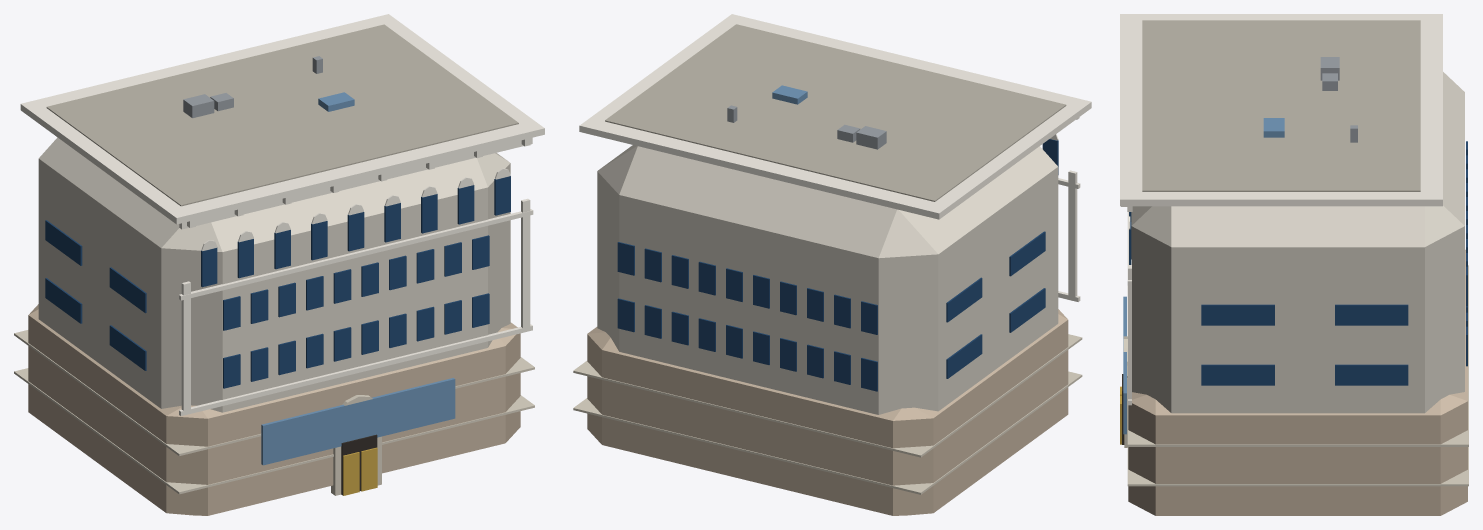
Rendered from office_f5_punched_w24.glb.
3 renders of one model, left to right at view 1: azimuth 30°, elevation 25°; view 2: azimuth 150°, elevation 25°; view 3: azimuth 270°, elevation 25°, orthographic. The views are drawn at different scales.
Visible parts, largest first — view 1: walls, roofslab, base, corn, baseglass, belt1, belt2, rustband, frieze, rustband.001, qpier, qpier.001 (+24 smaller); view 2: walls, base, roofslab, corn, rustband.001, rustband, qpier, sb, sb.004, sb.002, sb.006; view 3: walls, roofslab, base, corn, rustband.001, sb.001, sb.005, sb.003, sb.007, rustband, qpier.001, baseglass (+1 smaller).
Part boxes in pixels (x1,y1,x2,y2): walls: (38,137,510,412); roofslab: (46,24,518,206); base: (28,304,520,515); corn: (20,14,544,224); baseglass: (261,378,455,465); belt1: (179,324,532,415); belt2: (179,209,533,300); rustband: (14,368,534,494); frieze: (179,137,532,229); rustband.001: (14,330,534,456); qpier: (181,281,190,414); qpier.001: (521,198,530,327); walls: (597,145,1058,414); base: (587,309,1068,515); roofslab: (605,24,1066,201); corn: (579,14,1091,219); rustband.001: (573,334,1082,457); rustband: (573,371,1082,494); qpier: (1068,170,1077,296); sb: (1009,288,1045,332); sb.004: (1009,231,1045,276); sb.002: (946,334,982,378); sb.006: (946,277,982,322); walls: (1131,72,1464,413); roofslab: (1142,20,1420,191); base: (1128,249,1467,515); corn: (1120,14,1442,206); rustband.001: (1127,265,1468,446); sb.001: (1201,364,1274,385); sb.005: (1201,304,1274,325); sb.003: (1335,364,1408,385); sb.007: (1335,304,1408,325); rustband: (1127,447,1468,486); qpier.001: (1128,265,1131,399); baseglass: (1123,296,1126,434).
Size of the model in its own units: 25.3 by 21.9 by 20.08.
